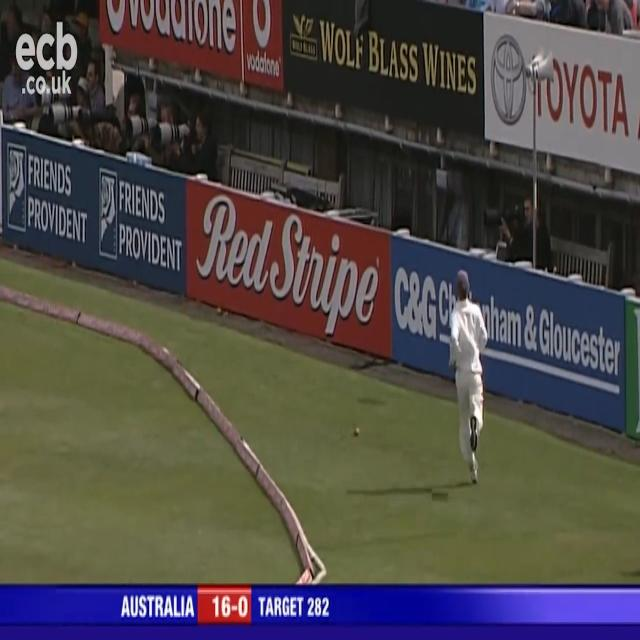ball: (352, 424, 361, 444)
